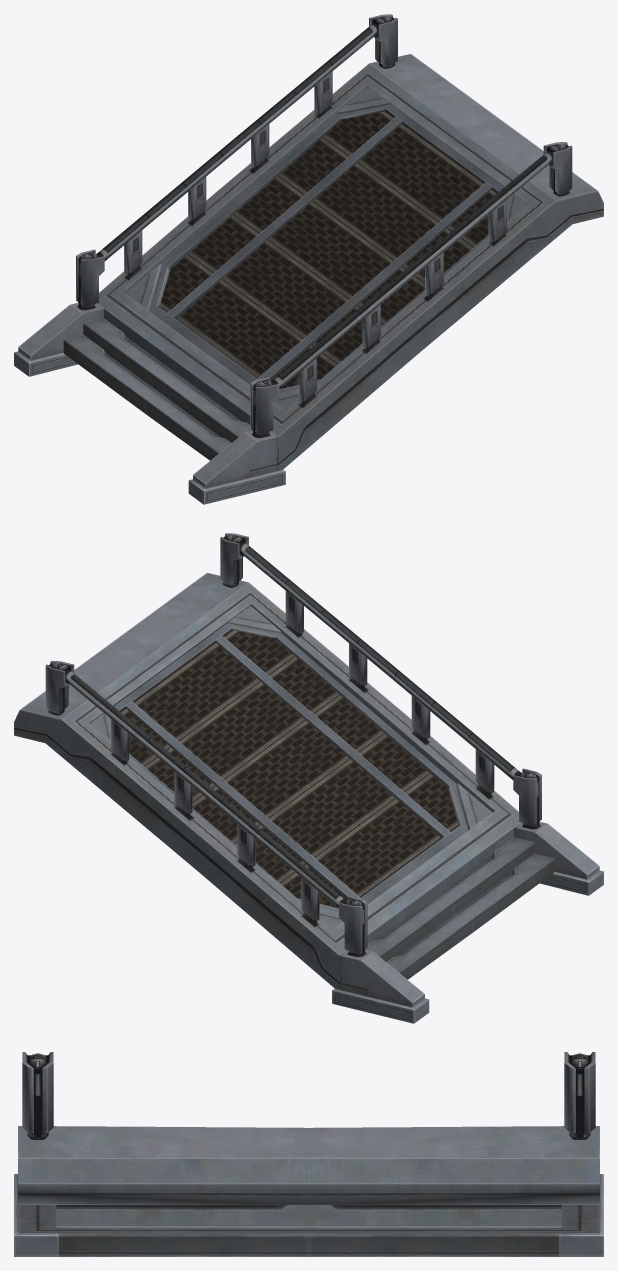
Rendered from all_item_imp_scaffold_ramp_small.glb.
The picture shows the model from 3 angles, top to bottom: view 1: azimuth 30°, elevation 25°; view 2: azimuth 150°, elevation 25°; view 3: azimuth 270°, elevation 25°; orthographic projection. The views are drawn at different scales.
Parts seen in each view (by area): view 1: all_item_imp_scaffold_ramp_small; view 2: all_item_imp_scaffold_ramp_small; view 3: all_item_imp_scaffold_ramp_small.
Part boxes in pixels (x1,y1,x2,y2): all_item_imp_scaffold_ramp_small: (14, 14, 603, 504); all_item_imp_scaffold_ramp_small: (14, 533, 603, 1023); all_item_imp_scaffold_ramp_small: (14, 1052, 603, 1256).
Bounding box in the file's own units: 0.9861 × 0.6226 × 0.808.
3 materials, 3 textured.
